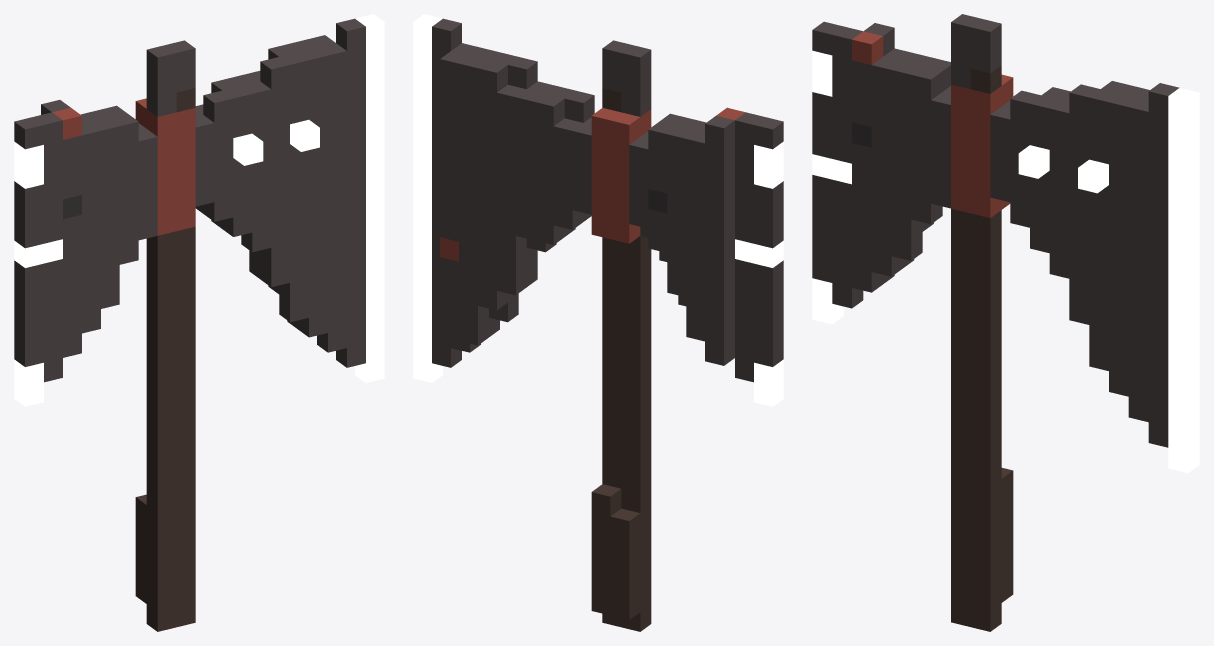
Rendered from axe_masterwork_lod1.glb.
3 views of the same model, side by side, from view 1: azimuth 30°, elevation 25°; view 2: azimuth 150°, elevation 25°; view 3: azimuth 330°, elevation 25° (orthographic). The views are drawn at different scales.
Visible parts, largest first — view 1: axe_masterwork_lod1; view 2: axe_masterwork_lod1; view 3: axe_masterwork_lod1.
Boxes of the visible parts, bbox=[...] form: axe_masterwork_lod1: bbox=[14, 14, 384, 631]; axe_masterwork_lod1: bbox=[413, 14, 783, 631]; axe_masterwork_lod1: bbox=[812, 14, 1199, 631].
Size of the model in its own units: 0.57 by 0.87 by 0.09.
